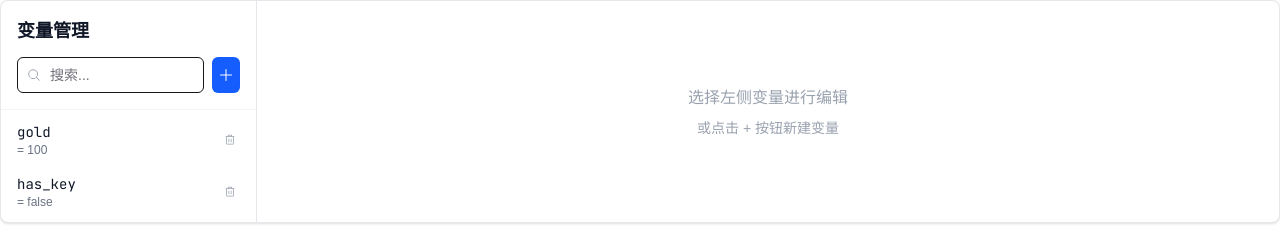
Test: EditorVariablesTab › 按搜索词过滤左侧变量列表
Type "gold" into the field with placeholder "搜索..." at (110, 75), box [17, 57, 204, 93]
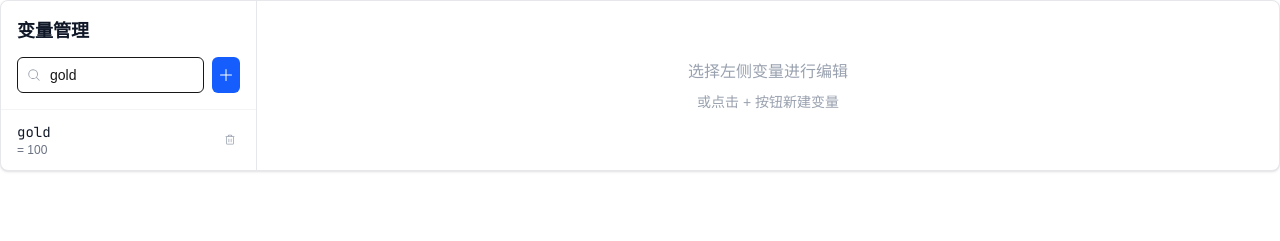
Expected: the text "gold" is shown, [17, 123, 51, 141]
Now the text "has_key" is gone
